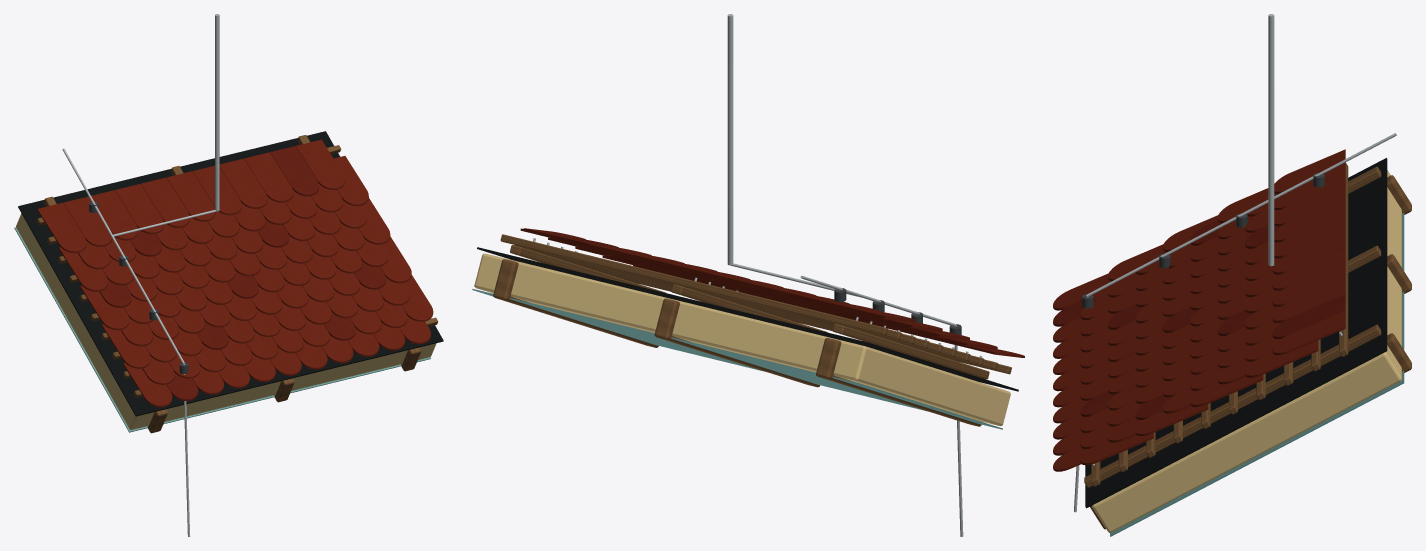
Rendered from modell.glb.
3 views of the same model, side by side, from view 1: azimuth 30°, elevation 25°; view 2: azimuth 150°, elevation 25°; view 3: azimuth 270°, elevation 25° (orthographic). The views are drawn at different scales.
Visible parts, largest first — view 1: a04-deckziegel_deckung, a04-zusatzebene_zusatzebene, a04-daemmung_daemmung, a04-deckziegel_deckung.001, a04-luftdichtheit_luftdichtheit, a04-lattung_lattung, a04-ableitung_, a04-fangeinrichtung_, a04-sparren_tragwerk; view 2: a04-daemmung_daemmung, a04-lattung_lattung, a04-deckziegel_deckung, a04-sparren_tragwerk, a04-luftdichtheit_luftdichtheit, a04-zusatzebene_zusatzebene, a04-fangeinrichtung_, a04-ableitung_, a04-deckziegel_deckung.001; view 3: a04-deckziegel_deckung, a04-daemmung_daemmung, a04-zusatzebene_zusatzebene, a04-lattung_lattung, a04-deckziegel_deckung.001, a04-fangeinrichtung_, a04-luftdichtheit_luftdichtheit, a04-sparren_tragwerk, a04-ableitung_, a04-halter_.
Part boxes in pixels (left/top/right/bottom): a04-deckziegel_deckung: left=37, top=139, right=433, bottom=407; a04-zusatzebene_zusatzebene: left=18, top=131, right=443, bottom=416; a04-daemmung_daemmung: left=16, top=213, right=436, bottom=429; a04-deckziegel_deckung.001: left=99, top=146, right=385, bottom=400; a04-luftdichtheit_luftdichtheit: left=14, top=227, right=430, bottom=432; a04-lattung_lattung: left=36, top=135, right=438, bottom=397; a04-ableitung_: left=62, top=148, right=217, bottom=363; a04-fangeinrichtung_: left=215, top=14, right=219, bottom=211; a04-sparren_tragwerk: left=147, top=347, right=421, bottom=433; a04-daemmung_daemmung: left=474, top=253, right=1010, bottom=426; a04-lattung_lattung: left=500, top=234, right=1011, bottom=379; a04-deckziegel_deckung: left=520, top=228, right=1024, bottom=357; a04-sparren_tragwerk: left=493, top=259, right=981, bottom=426; a04-luftdichtheit_luftdichtheit: left=472, top=289, right=1002, bottom=429; a04-zusatzebene_zusatzebene: left=477, top=247, right=1018, bottom=391; a04-fangeinrichtung_: left=727, top=14, right=733, bottom=265; a04-ableitung_: left=730, top=263, right=956, bottom=326; a04-deckziegel_deckung.001: left=556, top=236, right=962, bottom=346; a04-deckziegel_deckung: left=1053, top=149, right=1345, bottom=471; a04-daemmung_daemmung: left=1092, top=170, right=1401, bottom=532; a04-zusatzebene_zusatzebene: left=1085, top=158, right=1387, bottom=508; a04-lattung_lattung: left=1084, top=162, right=1381, bottom=487; a04-deckziegel_deckung.001: left=1053, top=220, right=1345, bottom=419; a04-fangeinrichtung_: left=1268, top=14, right=1274, bottom=266; a04-luftdichtheit_luftdichtheit: left=1110, top=213, right=1404, bottom=536; a04-sparren_tragwerk: left=1090, top=175, right=1411, bottom=529; a04-ableitung_: left=1087, top=133, right=1396, bottom=296; a04-halter_: left=1082, top=173, right=1324, bottom=308.
Size of the model in its own units: 2.14 by 2.92 by 1.69.
Materials: 8 (3 with a texture image).
